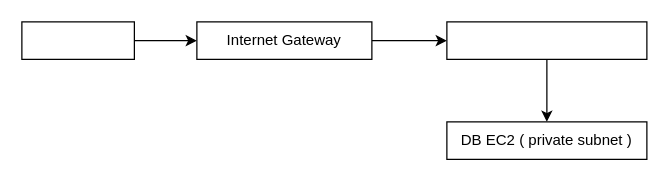
This 669x181 diagram has some shape labels left out. The shapes that lost their labels are listed below. From the top down, each one's centre as x and y in pixels, then its label:
point (77, 40): Internet
point (546, 40): App EC2 ( public subnet )
